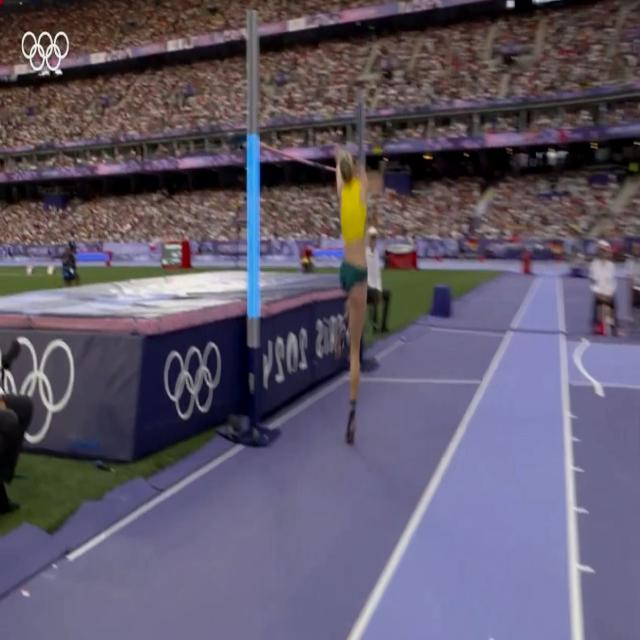jump: (336, 148, 368, 441)
